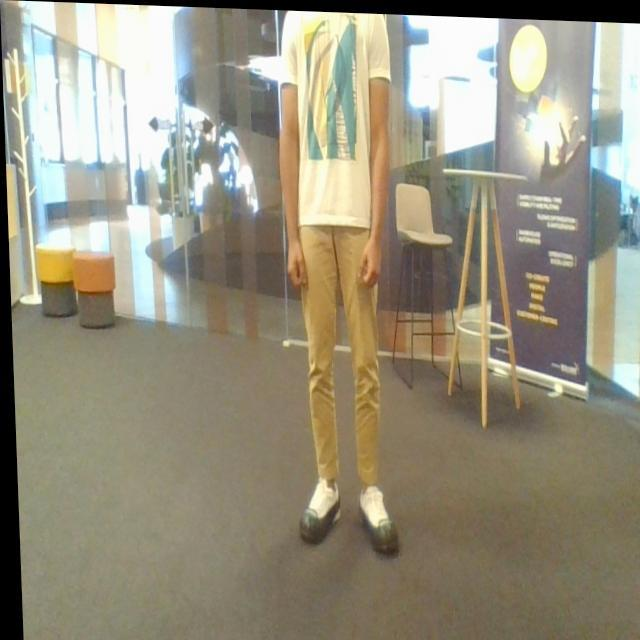shoes: (356, 482, 404, 562), (299, 475, 347, 545)
